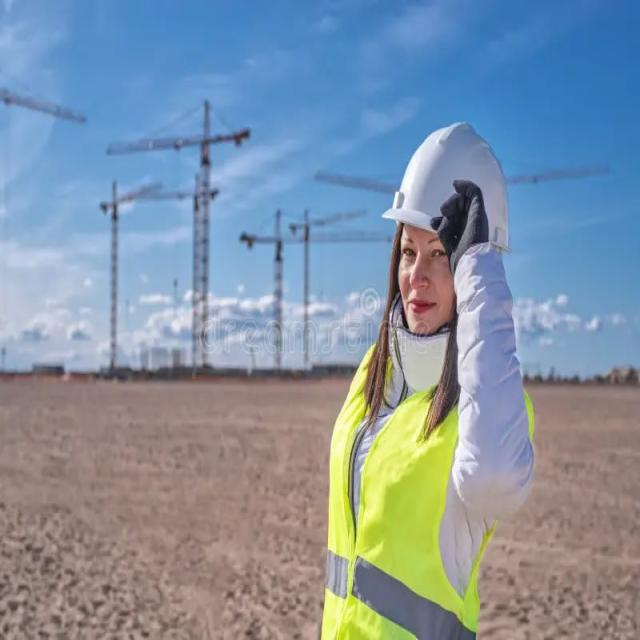helmet: (382, 95, 525, 249)
vest: (295, 63, 550, 640), (320, 346, 493, 640)
